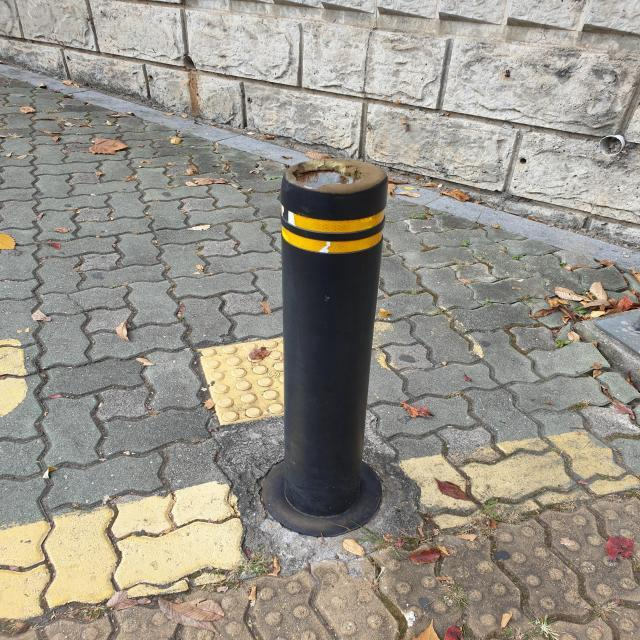pole: (258, 148, 388, 531)
